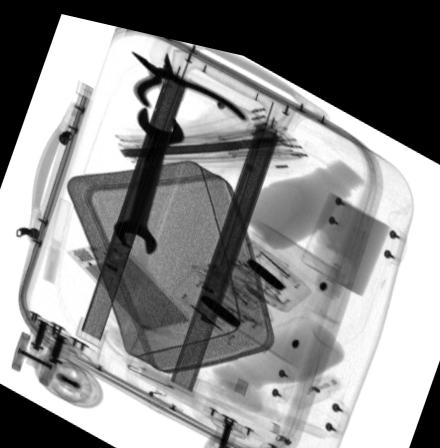Pliers: (127, 43, 247, 111)
Powerbank: (64, 232, 193, 324)
Wrench: (111, 98, 187, 248)
